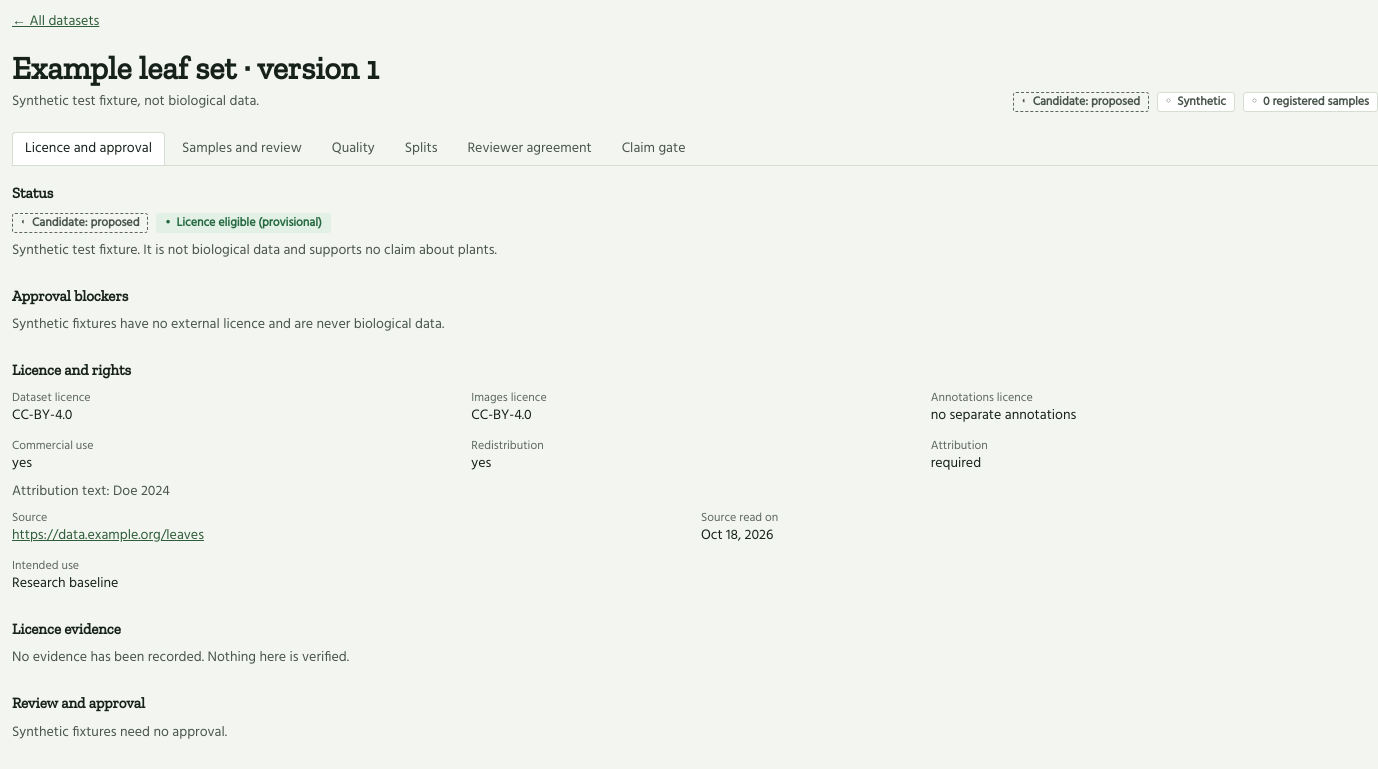
dataset detail: samples and label review › gives viewers the history but no review controls
Click the tab "Samples and review": x=242, y=148 left=169, top=132, right=315, bottom=165
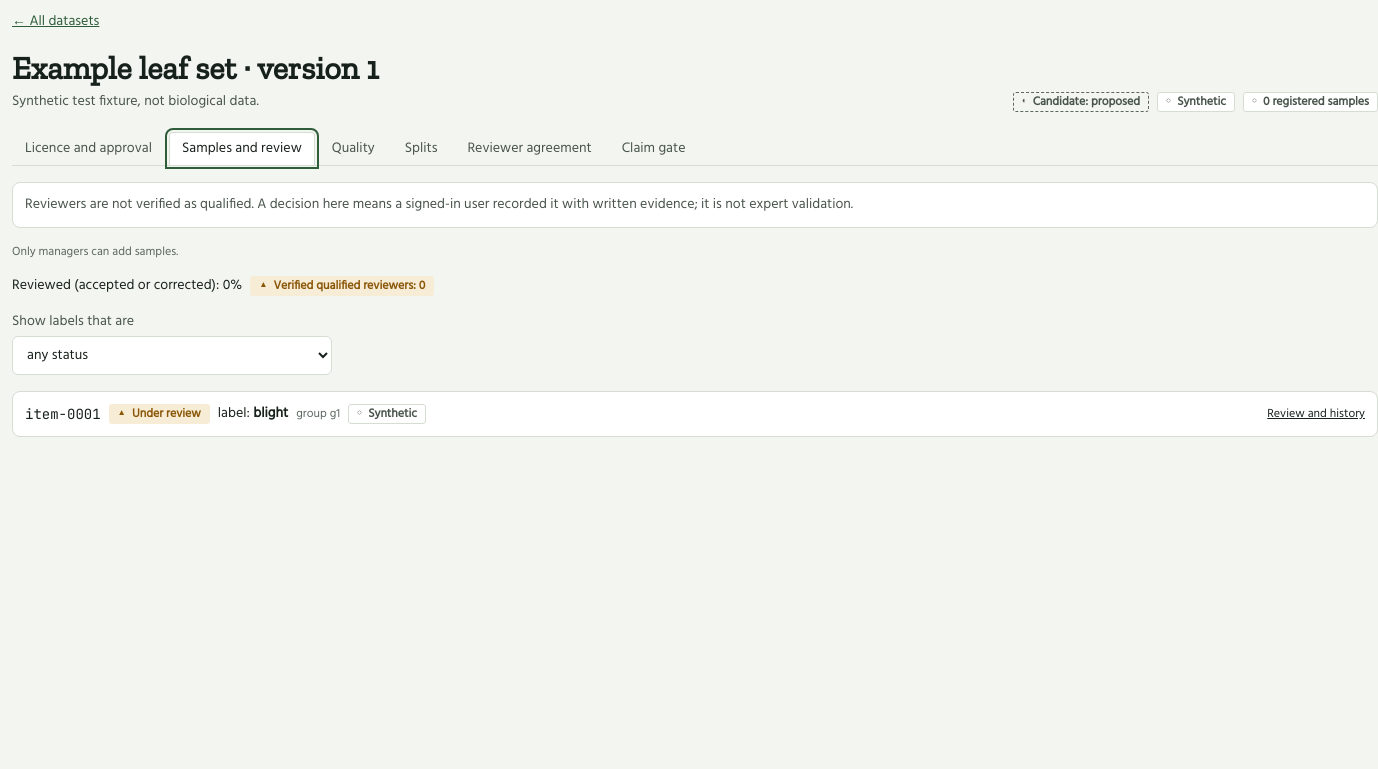
Click the button "Review and history": x=1316, y=414 left=1267, top=406, right=1365, bottom=422
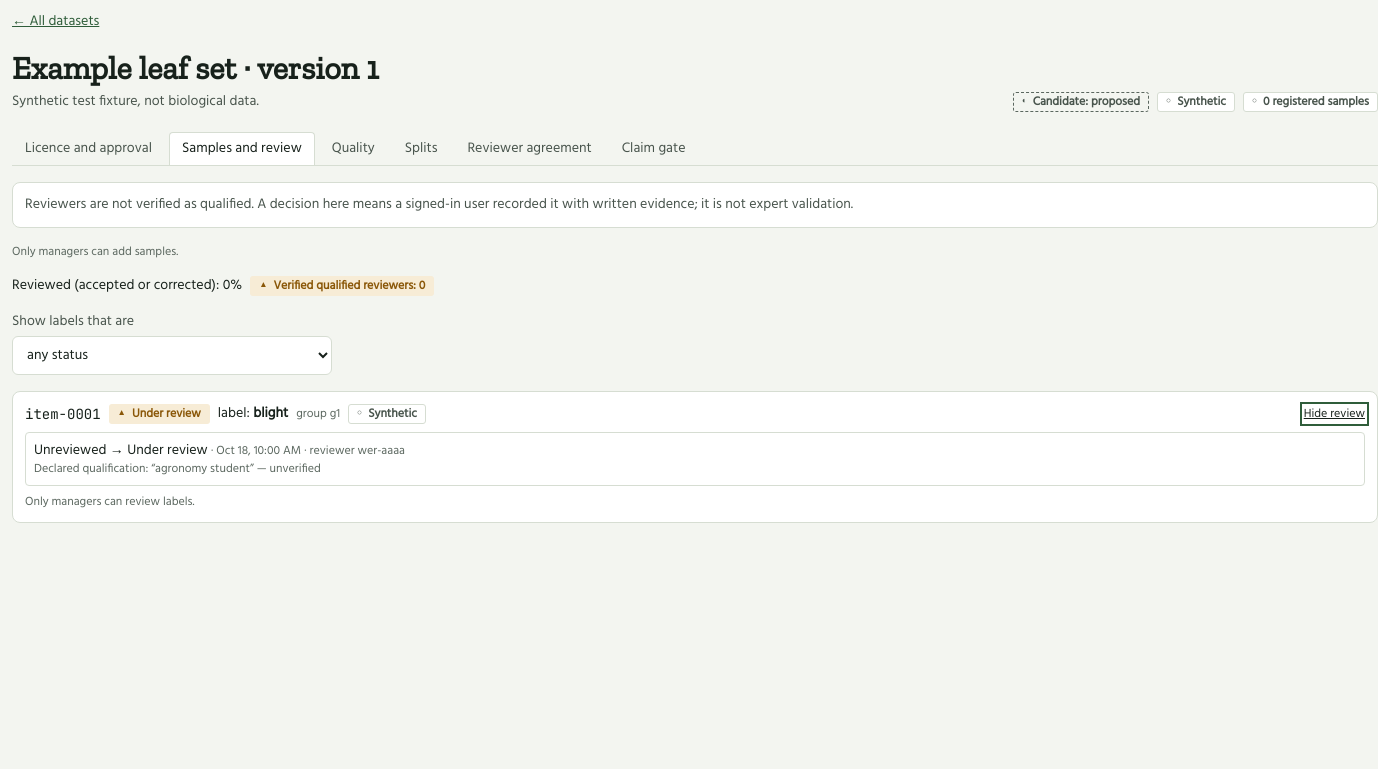
Expected: the text "Declared qualification: “agronomy student” — unverified" is shown, left=34, top=459, right=321, bottom=479
Expected: the text "Only managers can review labels." is shown, left=25, top=492, right=194, bottom=512
